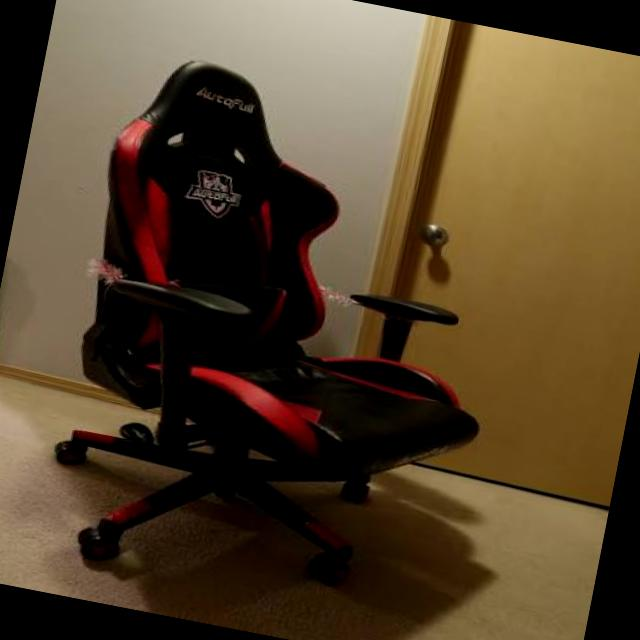Chair: (29, 55, 506, 598)
